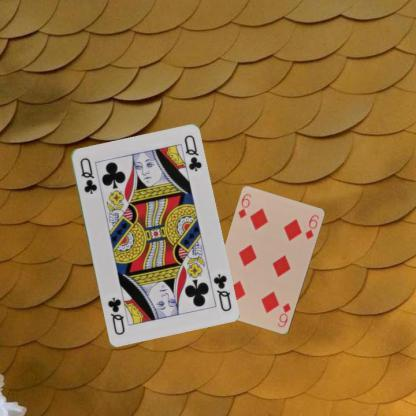6d: (274, 300, 292, 329), (236, 191, 252, 220)
Qc: (210, 271, 233, 313), (76, 155, 98, 195)
